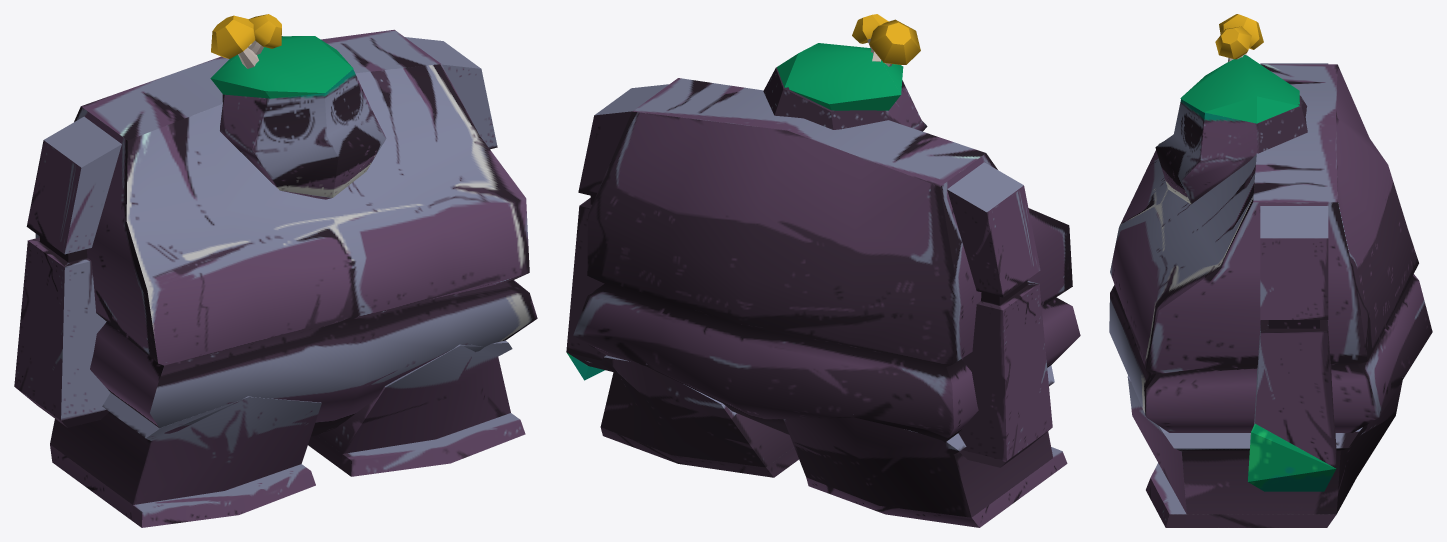
File: ARCardGame_Rock_Textured.fbx
The picture shows the model from 3 angles, left to right: view 1: azimuth 30°, elevation 25°; view 2: azimuth 150°, elevation 25°; view 3: azimuth 270°, elevation 25°; orthographic projection. The views are drawn at different scales.
Parts seen in each view (by area): view 1: Rock_geo_combined; view 2: Rock_geo_combined; view 3: Rock_geo_combined.
Part boxes in pixels (box(x1,y1,x2,y2)): Rock_geo_combined: box(14, 14, 537, 527); Rock_geo_combined: box(566, 14, 1080, 527); Rock_geo_combined: box(1109, 14, 1432, 527).
Bounding box in the file's own units: 6.65 × 6.26 × 4.56.
Materials: 1 (1 with a texture image).
